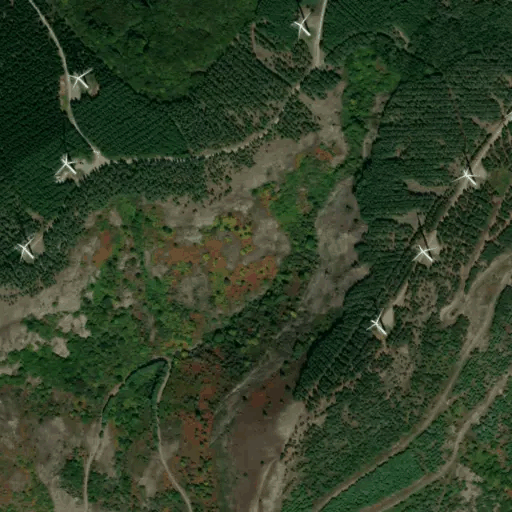wt: (56, 134, 81, 180), (364, 302, 390, 338), (61, 64, 94, 92), (410, 239, 435, 266), (18, 231, 36, 263), (455, 164, 479, 188), (291, 15, 314, 40)
